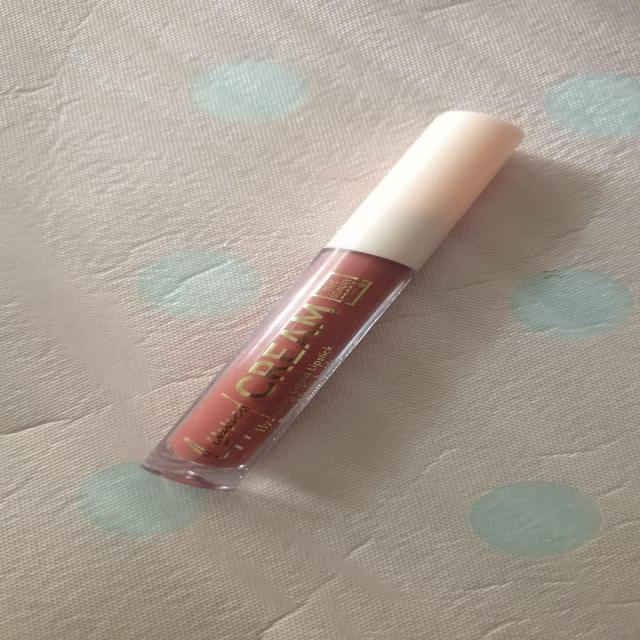lip gloss: (125, 96, 570, 506)
